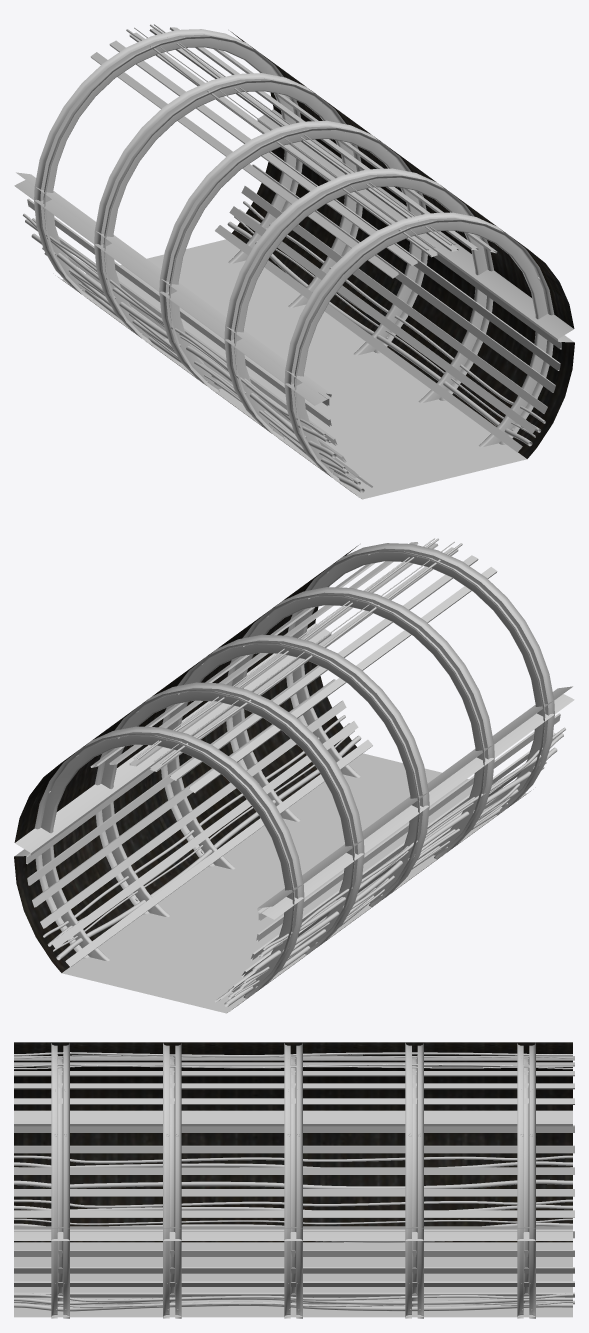
File: tunnel_1.obj
3 views of the same model, one above another, from view 1: azimuth 30°, elevation 25°; view 2: azimuth 150°, elevation 25°; view 3: azimuth 270°, elevation 25° (orthographic). The views are drawn at different scales.
Visible parts, largest first — view 1: tunnel_1; view 2: tunnel_1; view 3: tunnel_1.
Part boxes in pixels (x1,y1,x2,y2): tunnel_1: [14, 24, 574, 499]; tunnel_1: [14, 538, 574, 1013]; tunnel_1: [14, 1042, 574, 1318].
Bounding box in the file's own units: 3 × 2.69 × 6.02.
